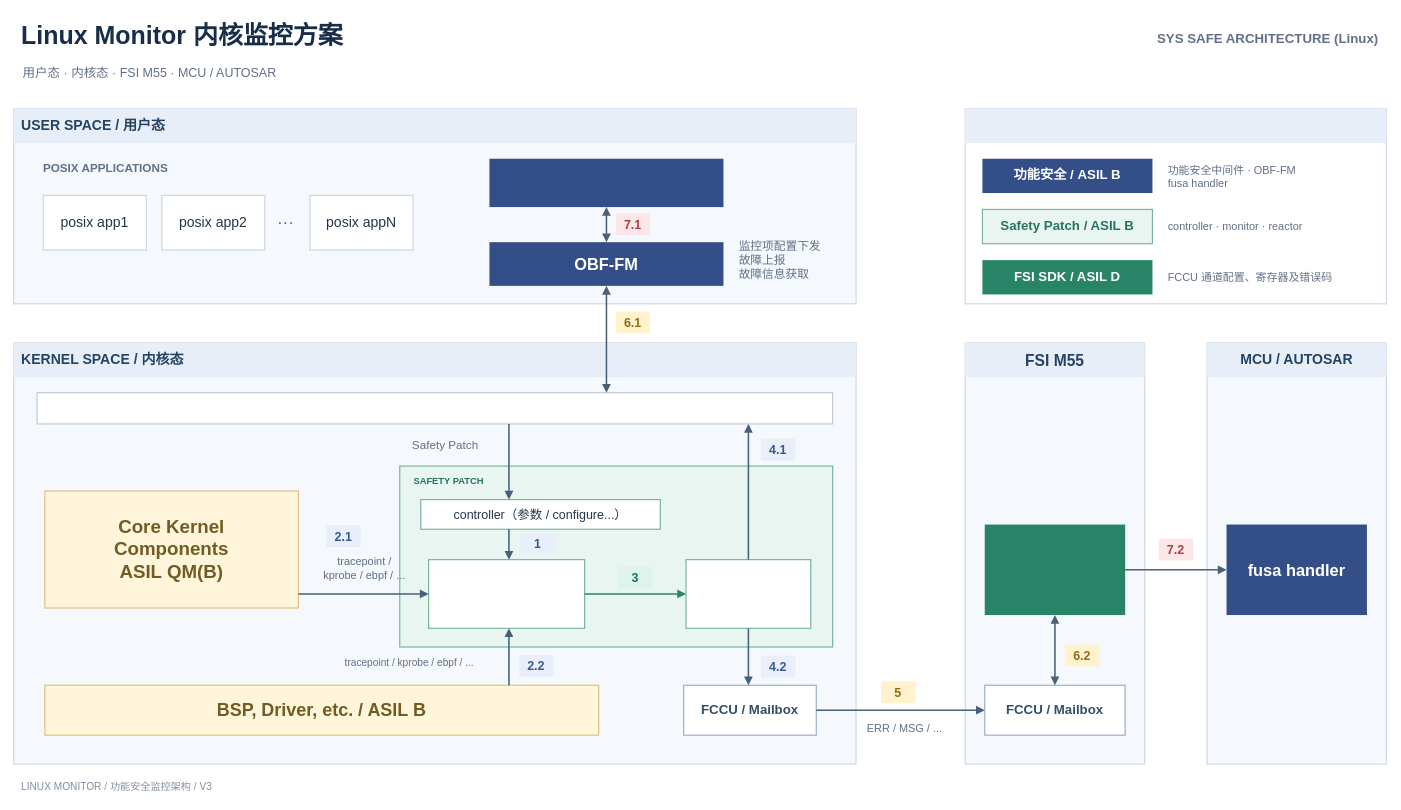
This 1401x810 diagram has some shape labels left out. Each missing label, with the centre of its shape:
"FCCU 通道配置 寄存器、错误码等" belongs at (x=1054, y=569).
"monitor Linux 状态 · 心跳 异常数据采集" belongs at (x=506, y=594).
"reactor 自定义反应器 数据上报等" belongs at (x=748, y=594).
"syscall / interface" belongs at (x=434, y=408).
"功能安全中间件" belongs at (x=606, y=182).
"图例 / LEGEND" belongs at (x=1175, y=125).
